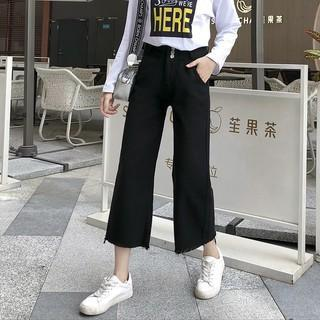pants: (104, 44, 225, 253)
sweater: (92, 1, 248, 95)
